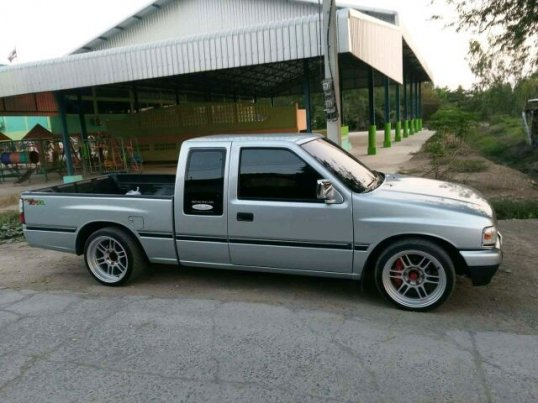pickup: (18, 129, 507, 312)
